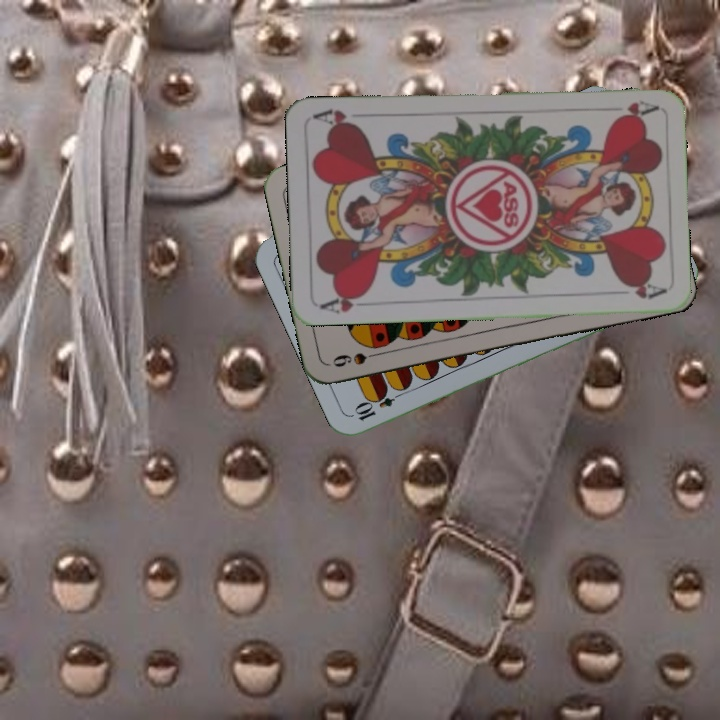E10: (351, 385, 407, 424)
HA: (316, 288, 375, 316), (611, 97, 659, 122)
S9: (328, 347, 387, 370)
